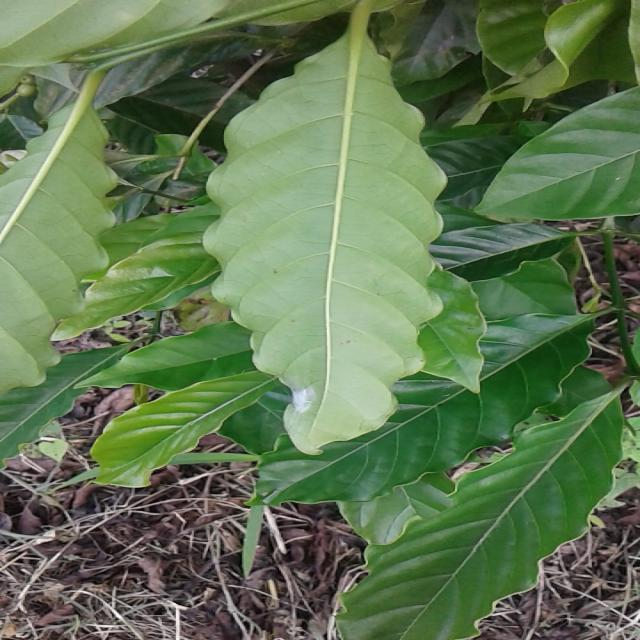Sanas: (201, 14, 487, 456)
